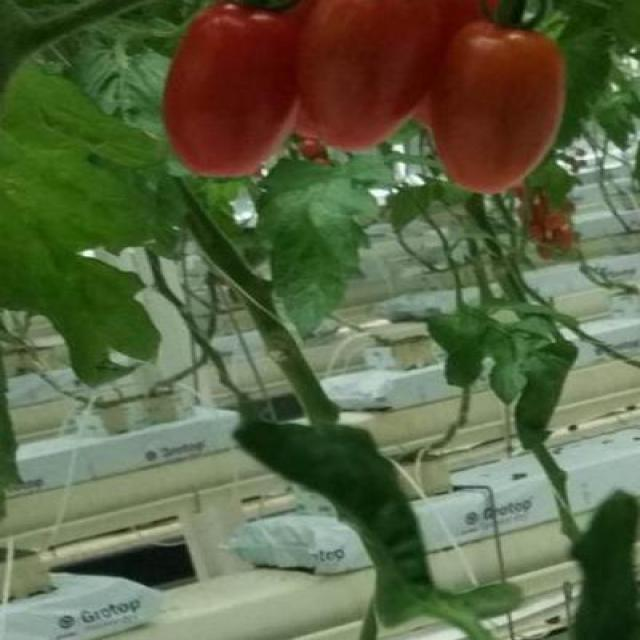tomato: (288, 0, 492, 151), (160, 1, 304, 180), (431, 21, 567, 195)
